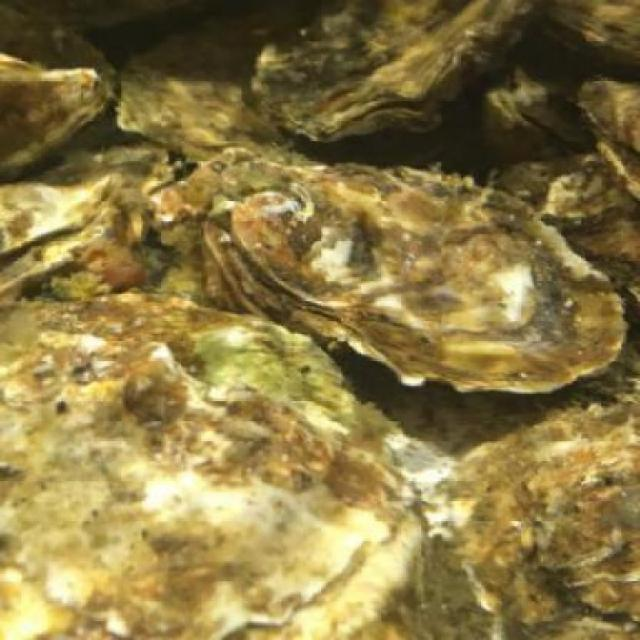Oyster- Indeterminate: (0, 290, 427, 640), (217, 185, 640, 408), (424, 406, 640, 640), (0, 58, 111, 173)
Oyster-Closed: (264, 0, 530, 135)
Oyster-Open: (1, 179, 121, 296)
